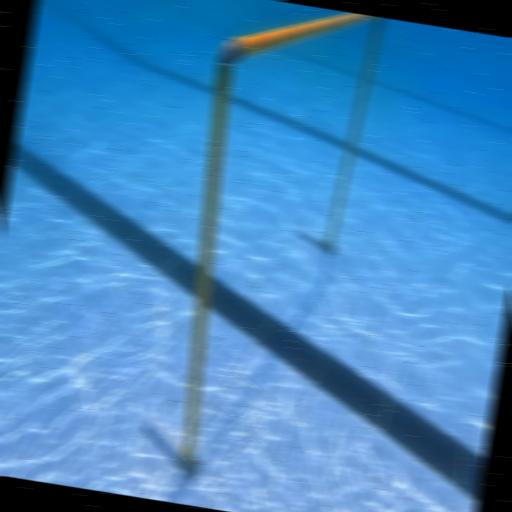gate: (135, 0, 386, 496)
